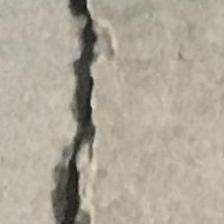Crack: (50, 0, 126, 224)
